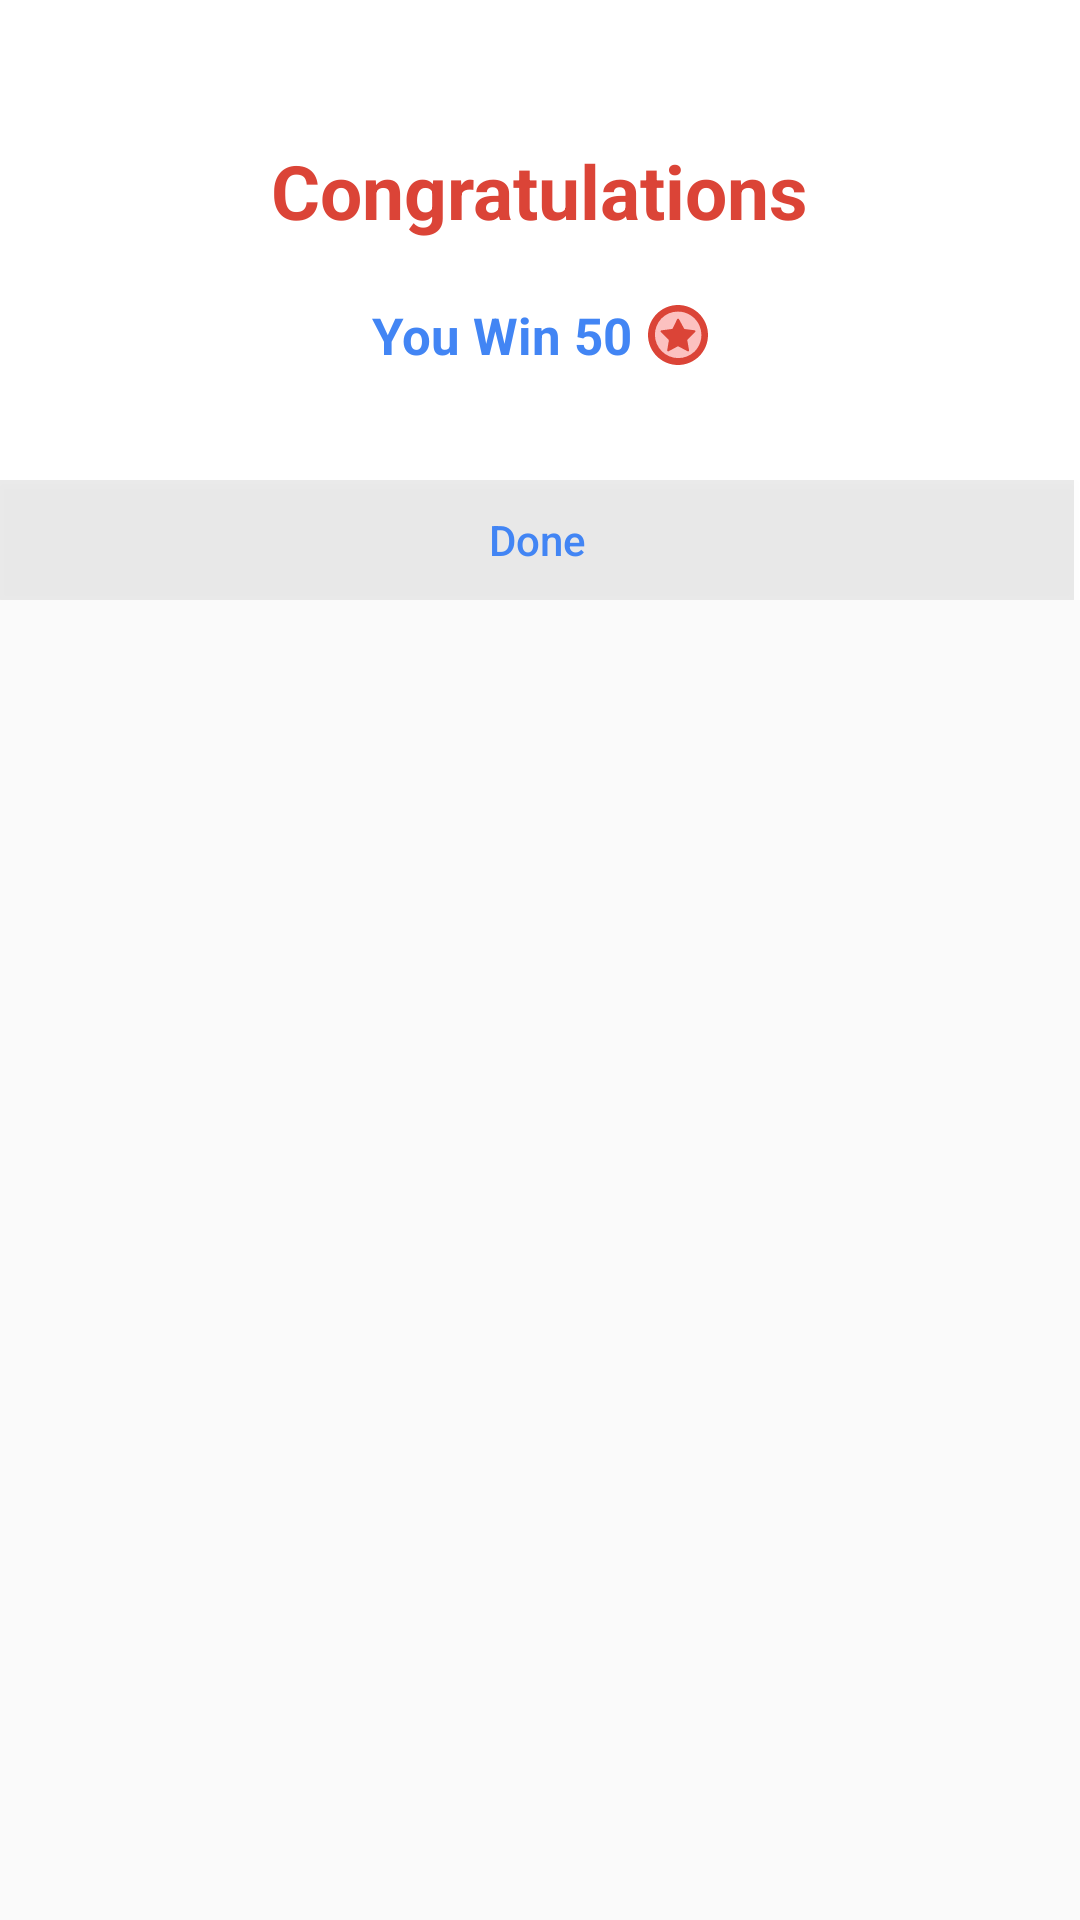

Icon bounding boxes for this 1080*1920 phone screenshot, format (x1, y1, x2, y2):
token: (648, 305, 708, 365)
